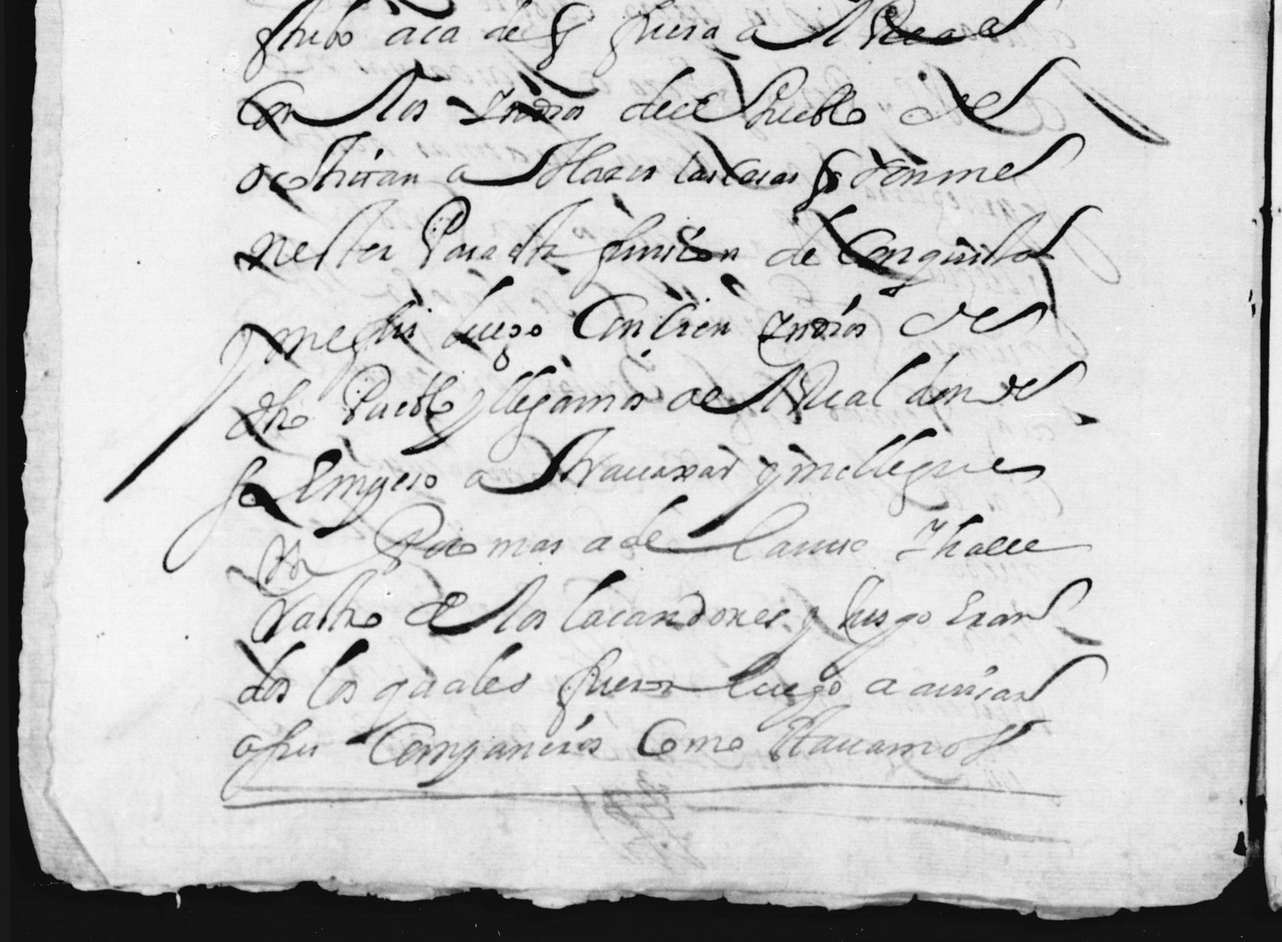lacandon: (561, 570, 790, 631)
